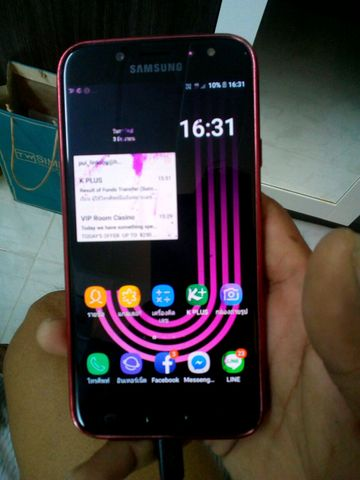Phone: (56, 31, 276, 440)
